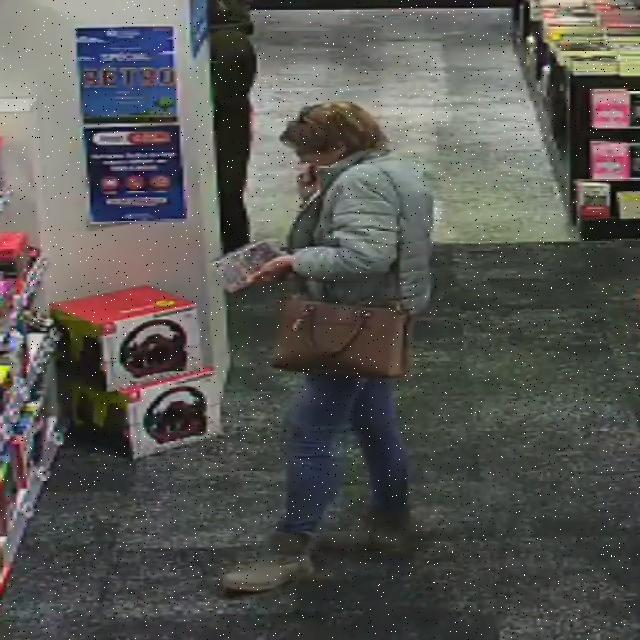article: (214, 240, 282, 292)
bags: (273, 297, 410, 377)
hands: (251, 256, 293, 284), (297, 165, 319, 201)
person: (223, 374, 417, 593)
